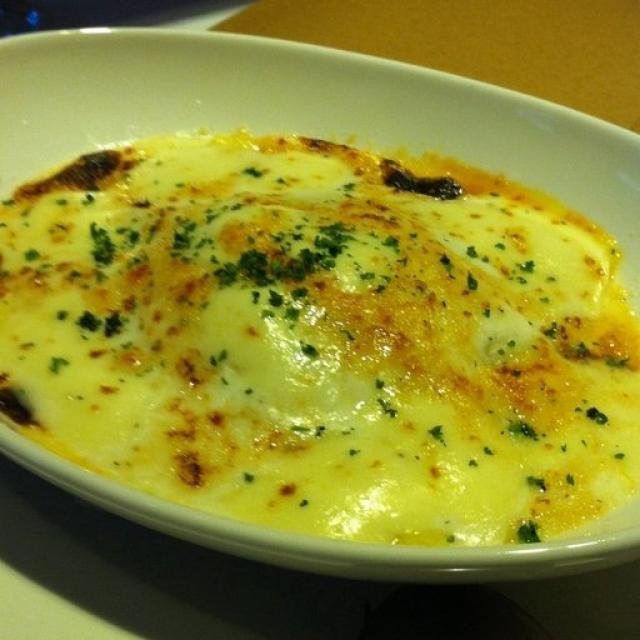Lasagna: (40, 134, 584, 496)
